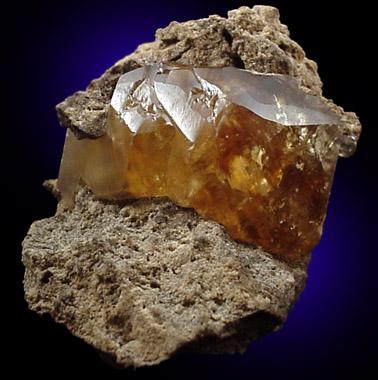calcite: (58, 65, 342, 261)
